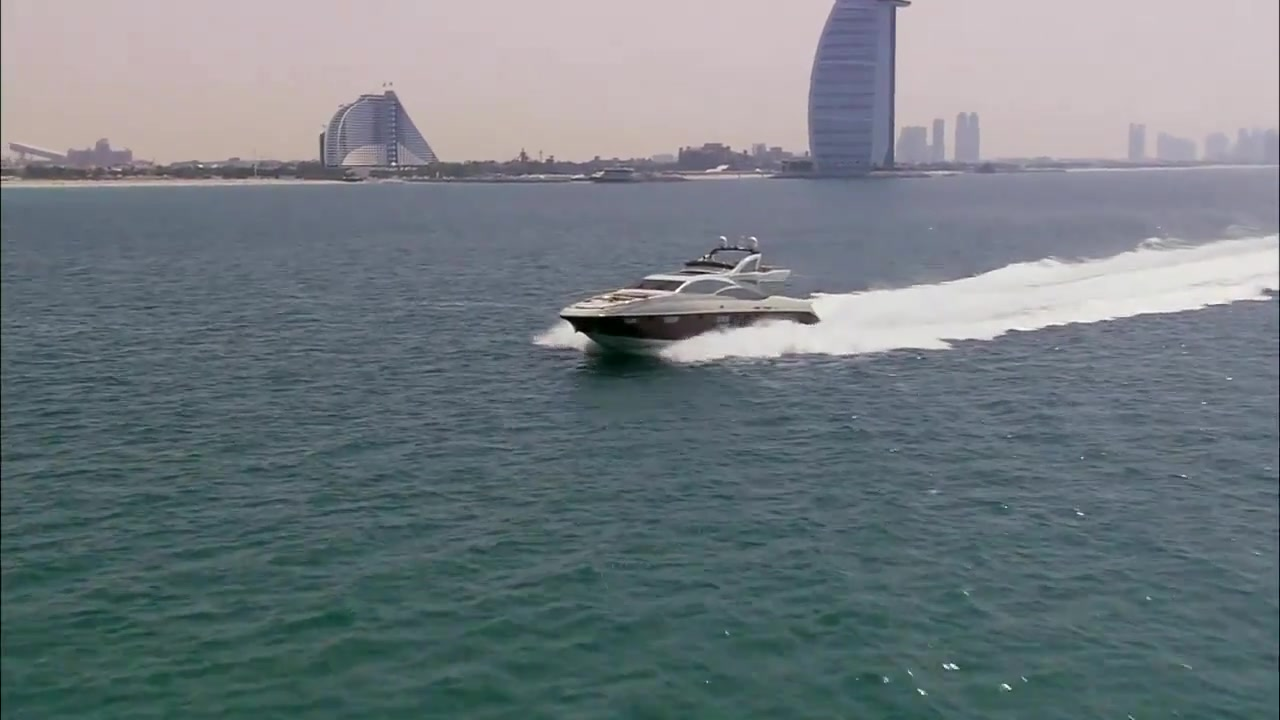boat: (549, 234, 826, 359), (588, 166, 650, 189)
